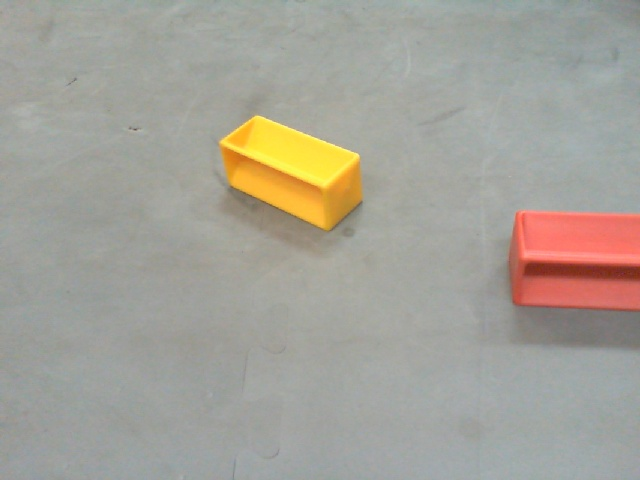RedSample: (506, 209, 640, 311)
YellowSample: (220, 114, 361, 228)
